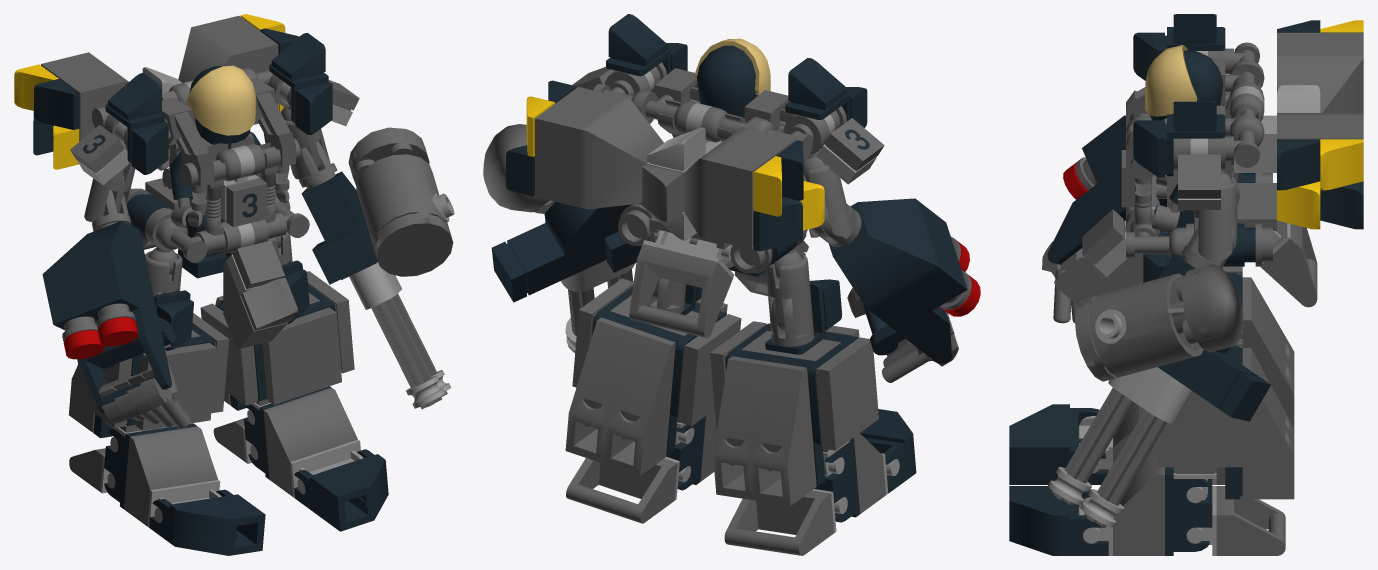
File: pa-03-power-armor.dae
3 renders of one model, left to right at view 1: azimuth 30°, elevation 25°; view 2: azimuth 150°, elevation 25°; view 3: azimuth 270°, elevation 25°, orthographic. The views are drawn at different scales.
Bounding box in the file's own units: 238 × 164 × 234.
